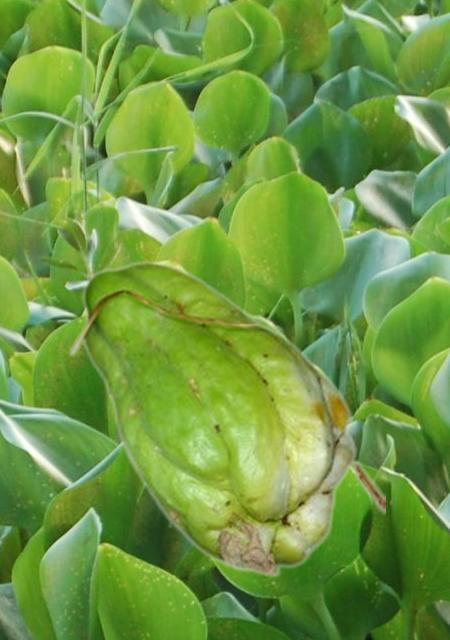sayote: (67, 260, 384, 577)
